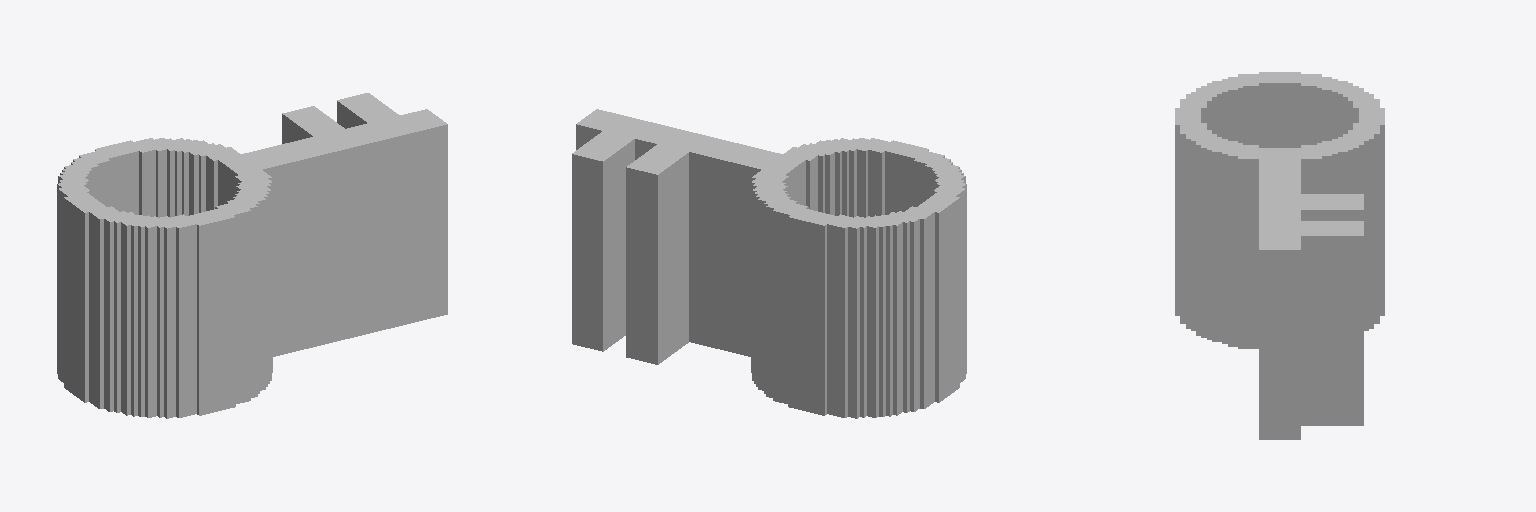
The model's file is Key.obj.
3 renders of one model, left to right at view 1: azimuth 30°, elevation 25°; view 2: azimuth 150°, elevation 25°; view 3: azimuth 270°, elevation 25°, orthographic.
Visible parts, largest first — view 1: object 1; view 2: object 1; view 3: object 1.
Boxes of the visible parts, x1=… form: object 1: x1=57, y1=93, x2=447, y2=418; object 1: x1=572, y1=109, x2=966, y2=418; object 1: x1=1175, y1=72, x2=1384, y2=439.
Bounding box in the file's own units: 8 × 4 × 4.